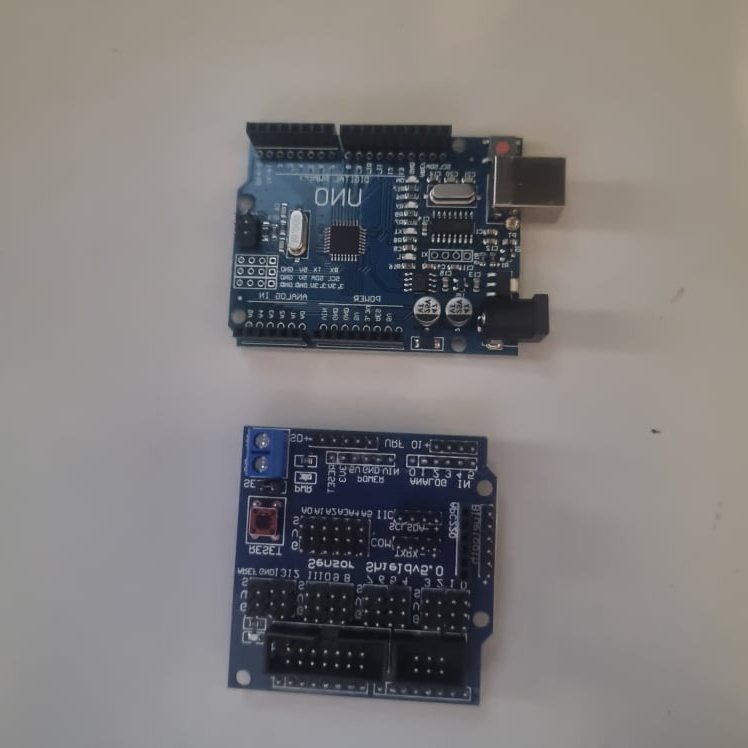5V EXPANSION: (224, 422, 500, 709)
UNO R3: (221, 120, 566, 349)
